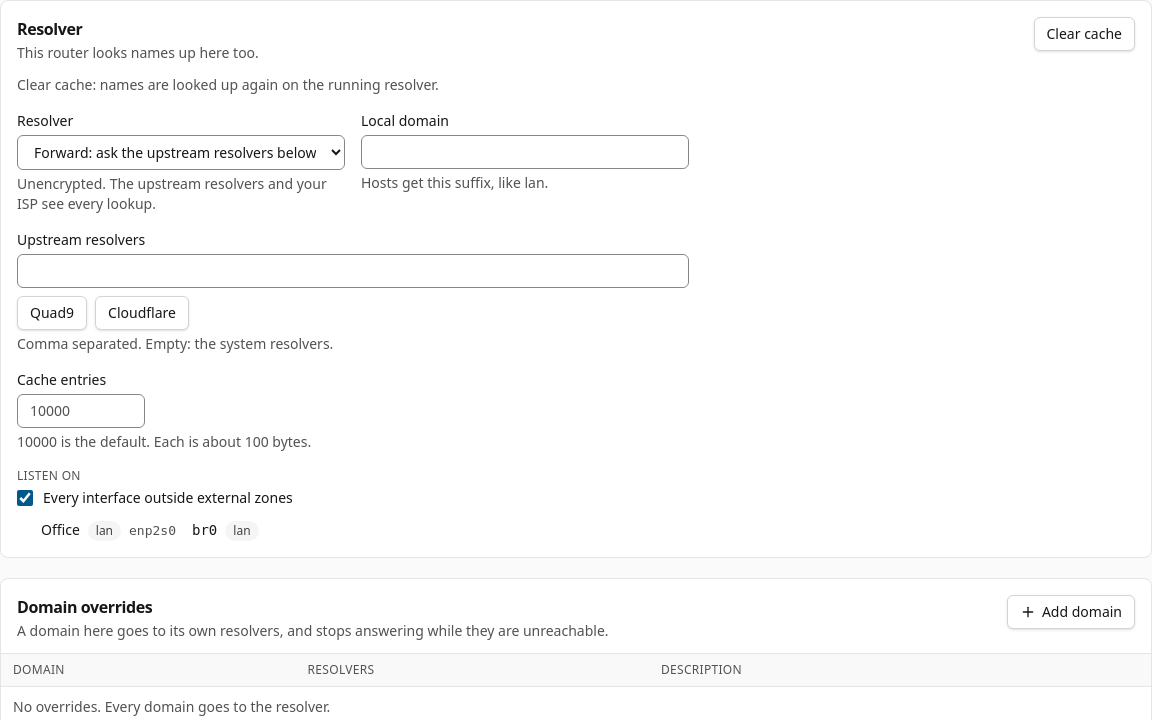
Scenario: ResolverTab › clears the cache without touching the draft
Click the button "Clear cache" at (1084, 34), box [1034, 17, 1135, 51]
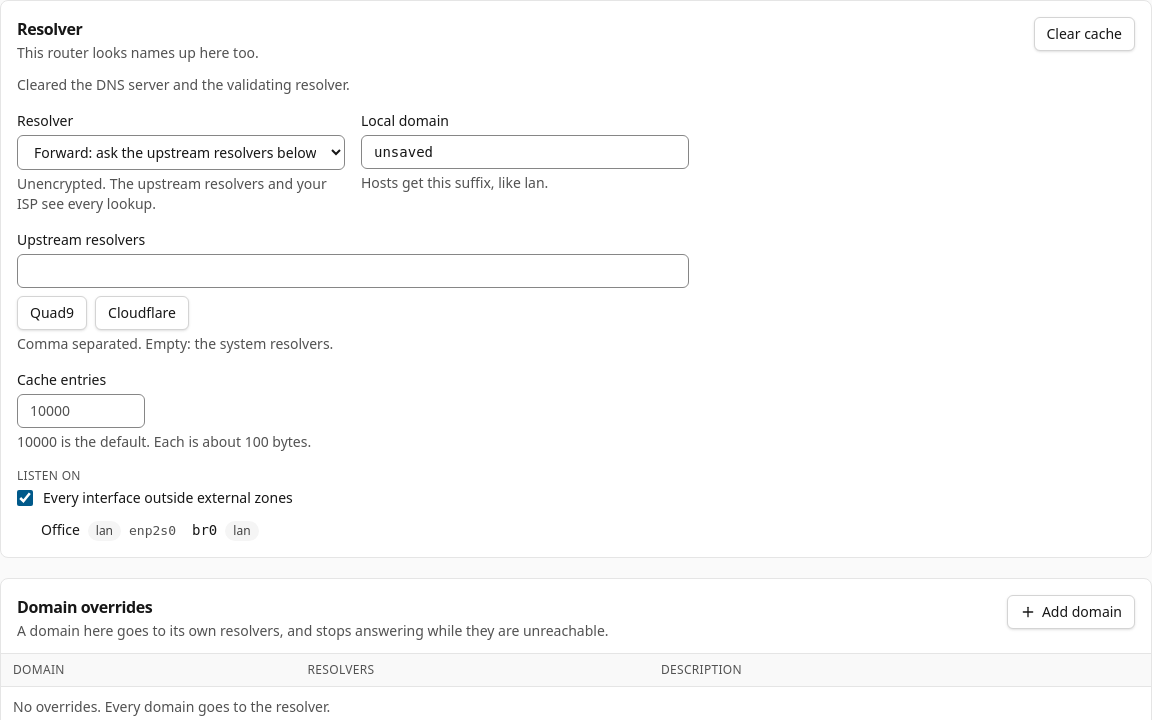
Check: the text "Cleared the DNS server and the validating resolver." is shown, box [17, 75, 350, 94]
